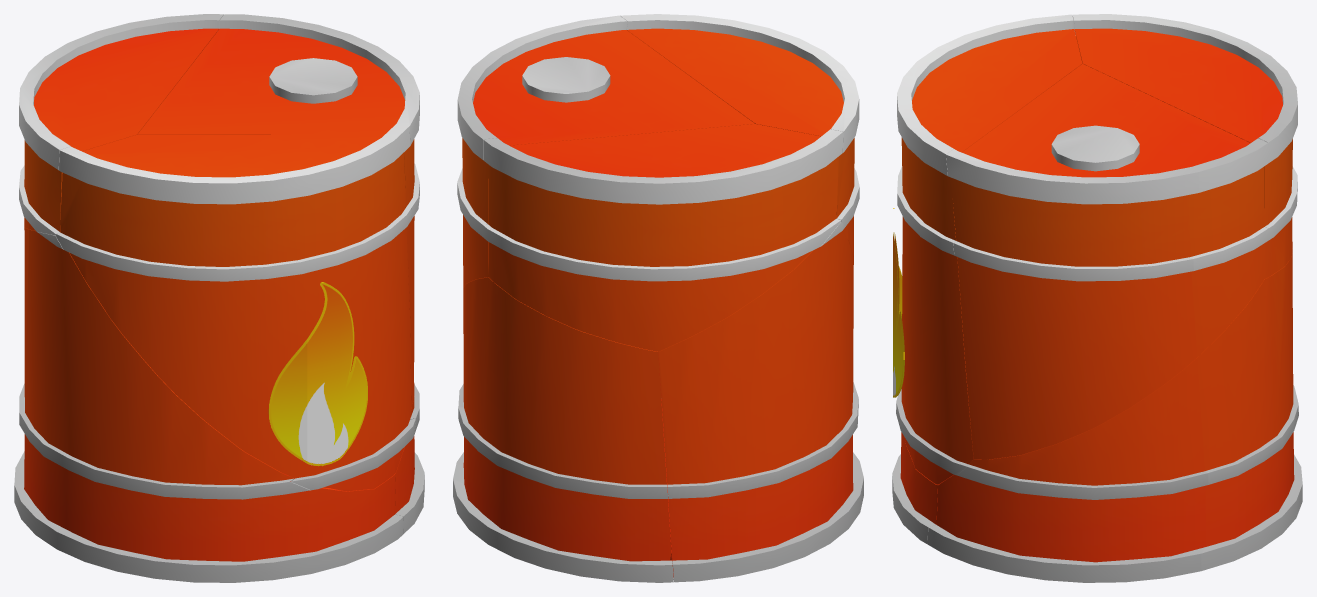
File: BarrelCell.fbx
The picture shows the model from 3 angles, left to right: view 1: azimuth 30°, elevation 25°; view 2: azimuth 150°, elevation 25°; view 3: azimuth 270°, elevation 25°; orthographic projection.
Visible parts, largest first — view 1: barrelCell_cell.004, barrelCell_cell, barrelCell_cell.002, barrelCell_cell.003, barrelCell_cell.005, barrelCell_cell.001; view 2: barrelCell_cell.003, barrelCell_cell, barrelCell_cell.001, barrelCell_cell.002, barrelCell_cell.004, barrelCell_cell.005; view 3: barrelCell_cell.002, barrelCell_cell.001, barrelCell_cell.004, barrelCell_cell.003, barrelCell_cell.005, barrelCell_cell.
Boxes of the visible parts, x1=… form: barrelCell_cell.004: x1=55, y1=126, x2=415, y2=491; barrelCell_cell: x1=14, y1=227, x2=403, y2=582; barrelCell_cell.002: x1=137, y1=14, x2=419, y2=408; barrelCell_cell.003: x1=19, y1=14, x2=223, y2=235; barrelCell_cell.005: x1=269, y1=58, x2=357, y2=103; barrelCell_cell.001: x1=281, y1=384, x2=424, y2=533; barrelCell_cell.003: x1=483, y1=124, x2=843, y2=351; barrelCell_cell: x1=658, y1=222, x2=863, y2=582; barrelCell_cell.001: x1=453, y1=277, x2=673, y2=582; barrelCell_cell.002: x1=457, y1=15, x2=754, y2=287; barrelCell_cell.004: x1=620, y1=14, x2=859, y2=355; barrelCell_cell.005: x1=522, y1=57, x2=610, y2=102; barrelCell_cell.002: x1=946, y1=64, x2=1268, y2=459; barrelCell_cell.001: x1=927, y1=248, x2=1302, y2=582; barrelCell_cell.004: x1=893, y1=14, x2=1082, y2=484; barrelCell_cell.003: x1=1072, y1=14, x2=1297, y2=278; barrelCell_cell.005: x1=1051, y1=125, x2=1139, y2=171; barrelCell_cell: x1=892, y1=389, x2=951, y2=544.
Size of the model in its own units: 249 by 266 by 249.
